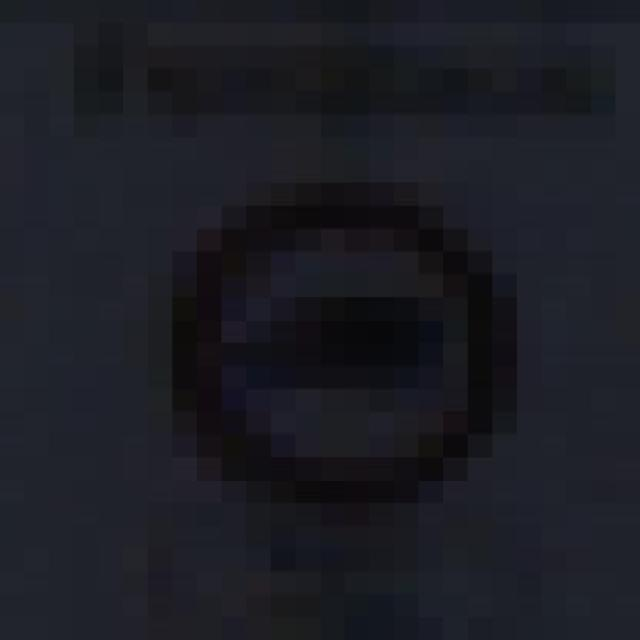Truck traffic is prohibited: (123, 182, 517, 548)
